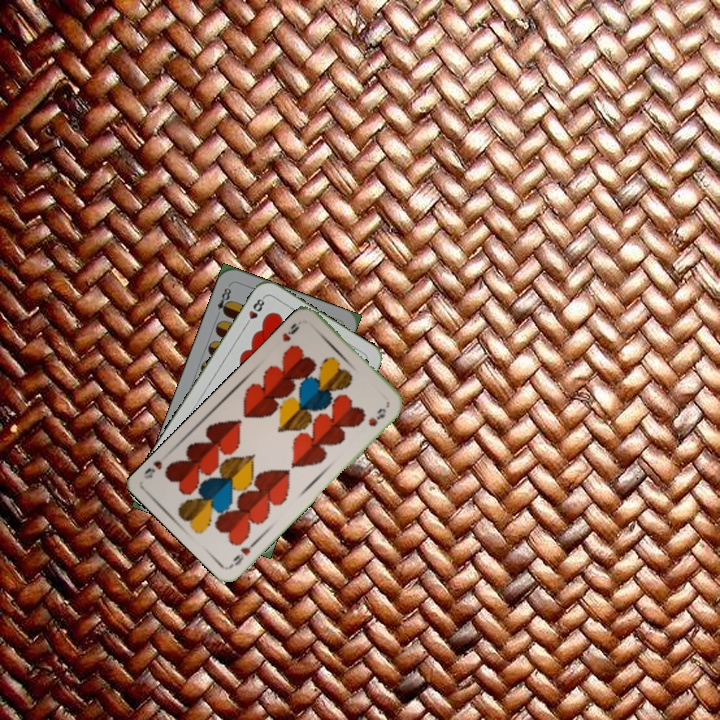E8: (212, 281, 234, 320)
H8: (241, 293, 267, 329)
H9: (226, 537, 259, 569), (278, 319, 302, 344)
